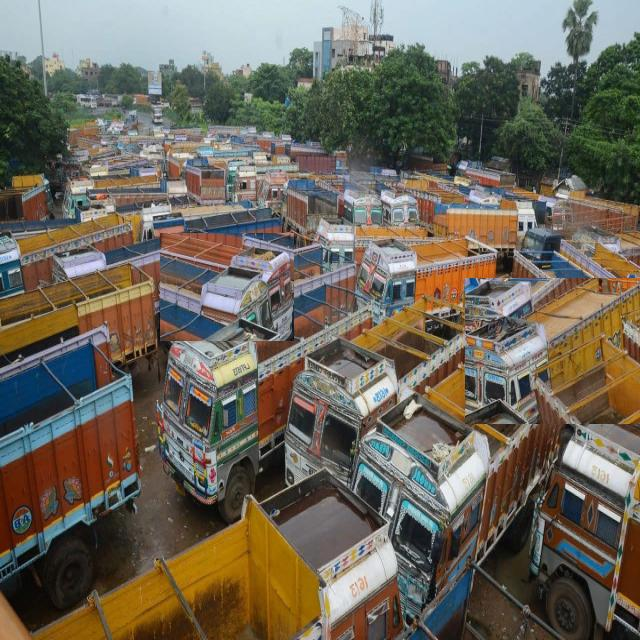truck: (351, 340, 568, 623), (156, 284, 371, 522), (285, 296, 481, 484), (465, 278, 639, 424), (160, 234, 294, 341), (356, 238, 498, 320)
